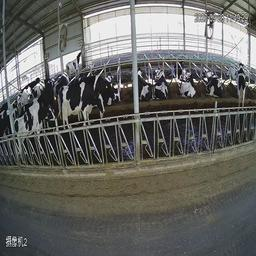cow: (6, 107, 56, 166), (62, 80, 112, 135), (234, 54, 251, 110), (202, 64, 225, 101), (153, 64, 171, 103), (179, 69, 200, 102), (138, 63, 154, 102), (53, 73, 67, 117), (66, 50, 86, 75), (173, 54, 187, 72)
